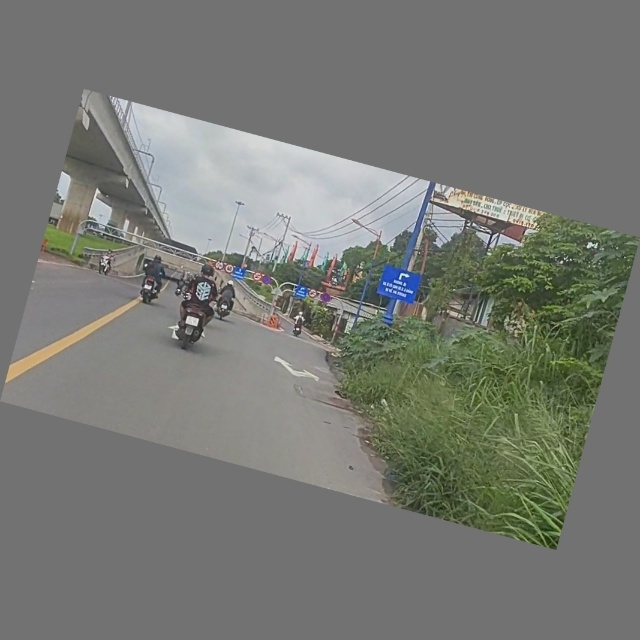P.107: (307, 289, 319, 300), (252, 272, 263, 283)
P.117*: (214, 260, 225, 273)
P.127*40: (223, 264, 235, 275)
P.130: (319, 292, 332, 304), (261, 275, 273, 287)
